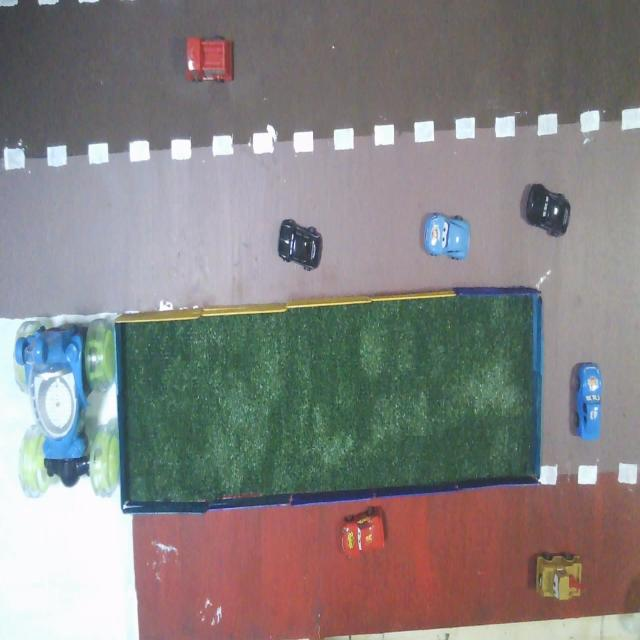driver car f: (14, 319, 120, 498)
small cars: (526, 184, 570, 237), (278, 220, 321, 270), (536, 553, 581, 600), (342, 507, 384, 557), (187, 37, 233, 82), (424, 214, 470, 259), (576, 363, 601, 440)
